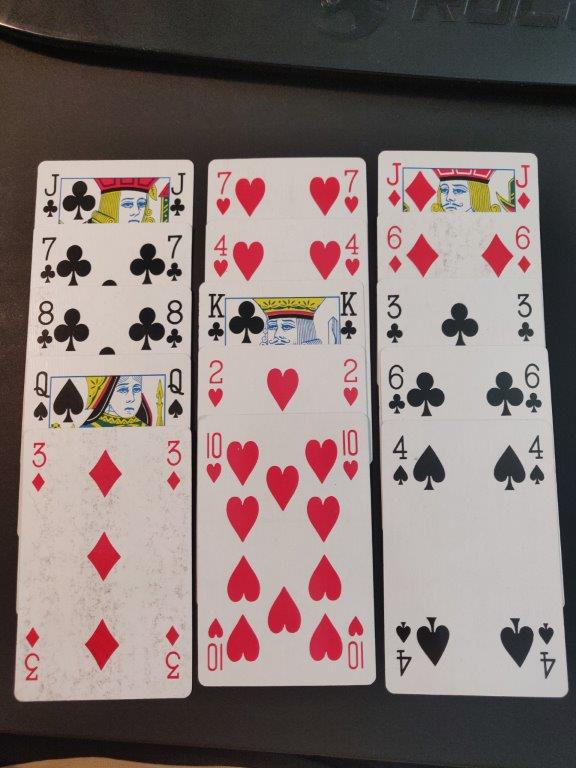10H: (200, 430, 230, 484), (338, 422, 362, 480)
2H: (206, 357, 230, 414), (338, 355, 361, 414)
3C: (380, 290, 408, 347), (512, 291, 540, 345)
3D: (22, 436, 51, 495), (163, 436, 184, 495)
4H: (341, 230, 364, 281), (210, 231, 232, 283)
4S: (384, 429, 413, 491), (522, 428, 549, 488)
6C: (385, 358, 411, 418), (522, 360, 544, 418)
6D: (384, 222, 407, 278), (513, 222, 534, 276)
7C: (163, 231, 187, 287), (37, 233, 59, 286)
7H: (212, 166, 237, 220), (339, 164, 361, 217)
8C: (31, 295, 57, 355), (164, 297, 186, 353)
JC: (37, 170, 63, 220), (168, 167, 188, 217)
JD: (380, 160, 409, 207), (512, 164, 535, 212)
KC: (336, 286, 361, 344), (206, 290, 230, 349)
QS: (30, 368, 53, 424), (164, 364, 187, 420)
